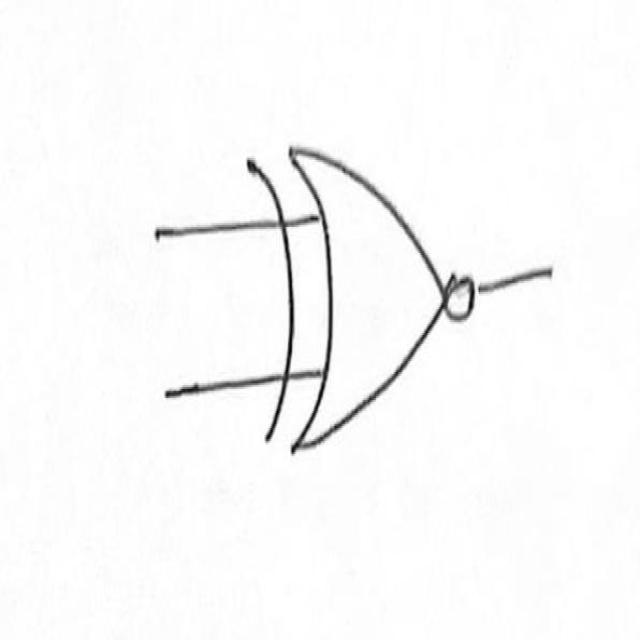XNOR: (224, 122, 506, 510)
